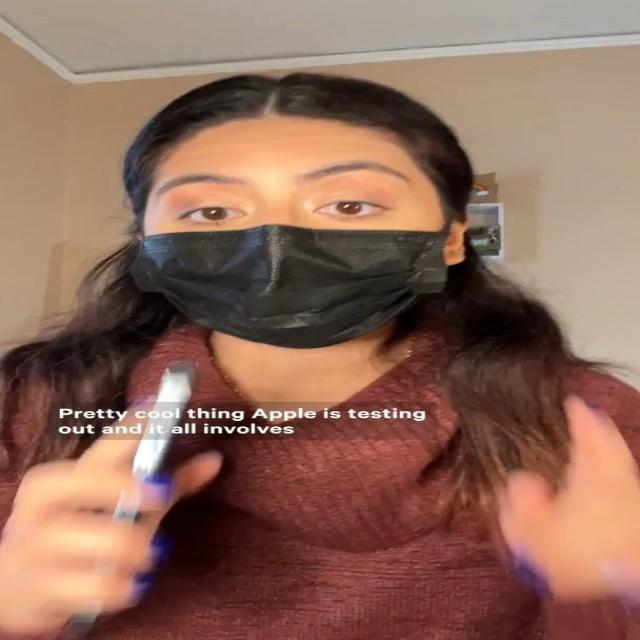Mask: (119, 123, 482, 370)
